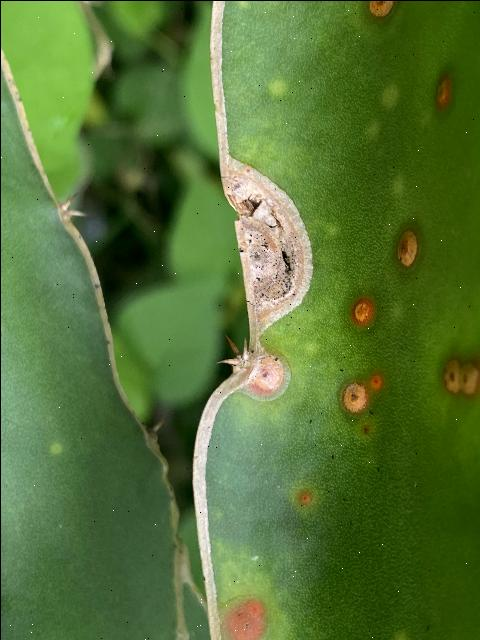stemcanker: (217, 151, 321, 340), (240, 348, 292, 403)
